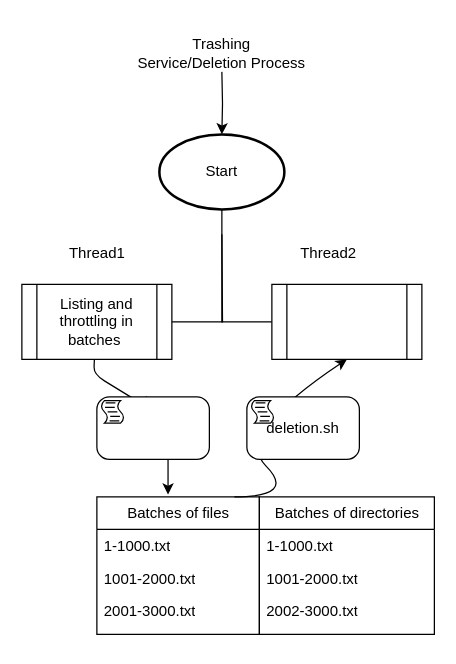
Image size: 456x664. Some labels were removed from this diagram. The centre of each missing label's shape, as x and y in pixels:
"batching.sh" goes at (152,427).
"Deleting files and directories in batches" goes at (346,321).
